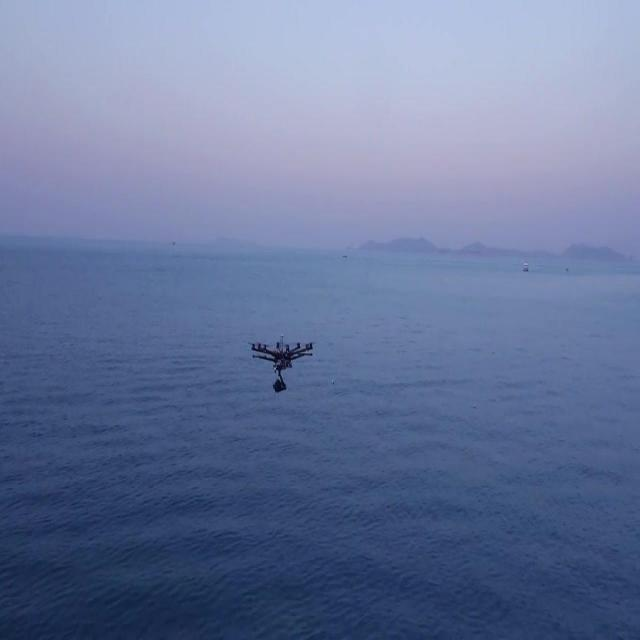UAV: (248, 334, 314, 394)
